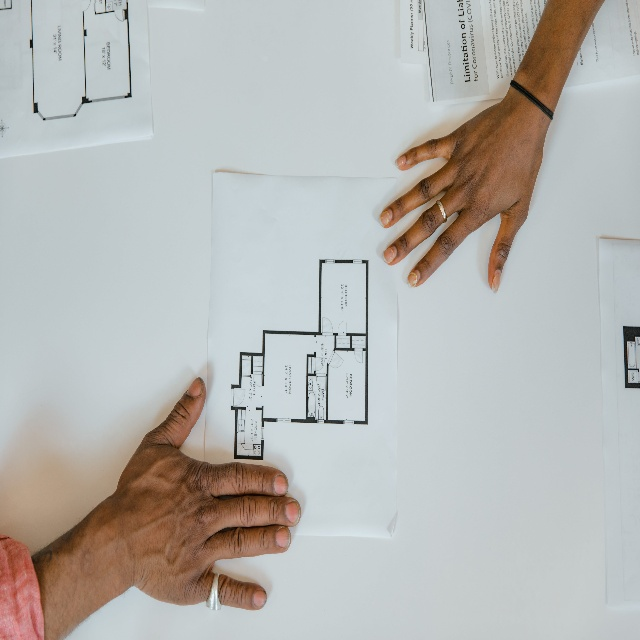Sin_guantes: (99, 371, 302, 619), (369, 83, 548, 296)
